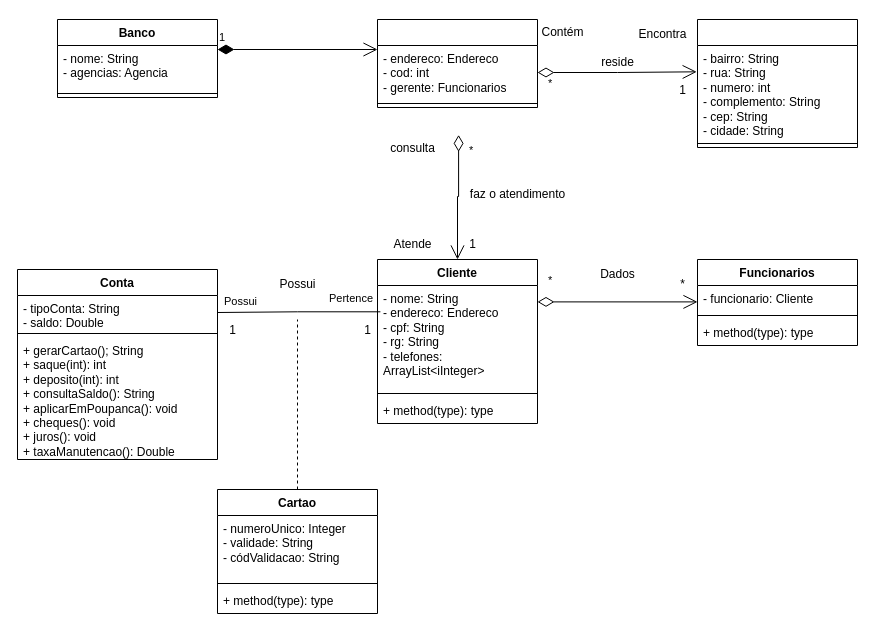
Image size: 875x633. Some labels were removed from this diagram. The box of each missing label's shape, as (x1, y1, x2, y2) in pixels:
Agencia: (376, 18, 538, 108)
Endereco: (696, 18, 858, 148)
